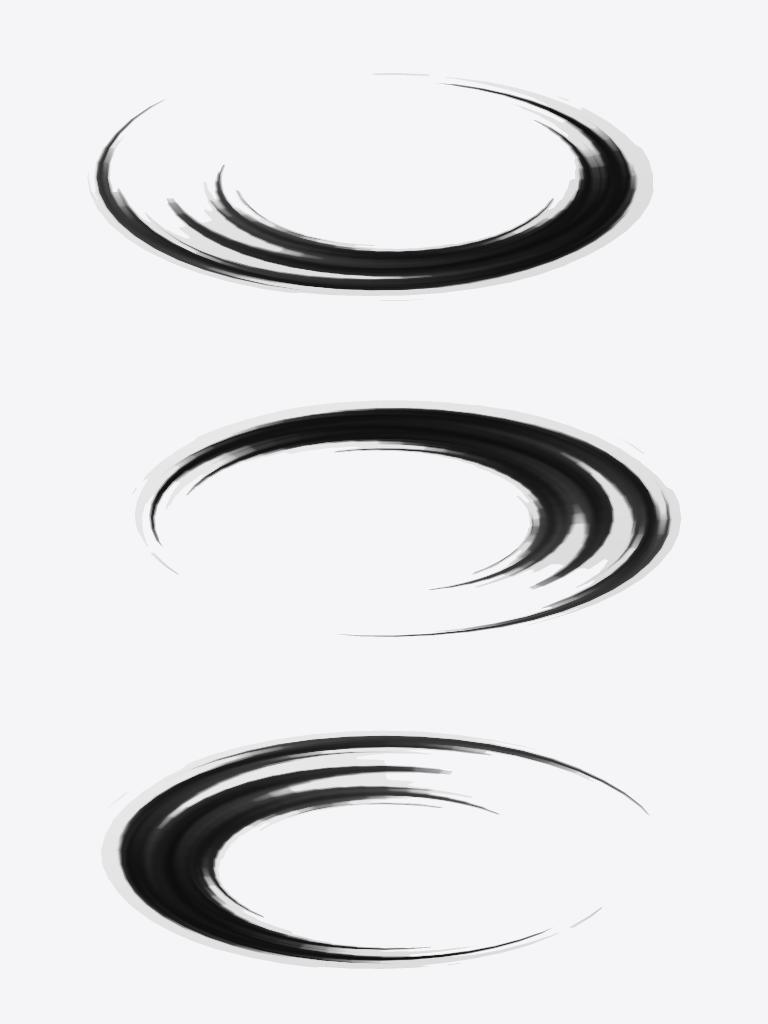
3 renders of one model, top to bottom at view 1: azimuth 30°, elevation 25°; view 2: azimuth 150°, elevation 25°; view 3: azimuth 270°, elevation 25°, orthographic.
Parts seen in each view (by area): view 1: DG_001; view 2: DG_001; view 3: DG_001.
Boxes of the visible parts, <box> form: DG_001: <box>87,73,653,300</box>; DG_001: <box>132,400,681,636</box>; DG_001: <box>101,730,650,968</box>.
Bounding box in the file's own units: 144 × 3.51 × 144.
